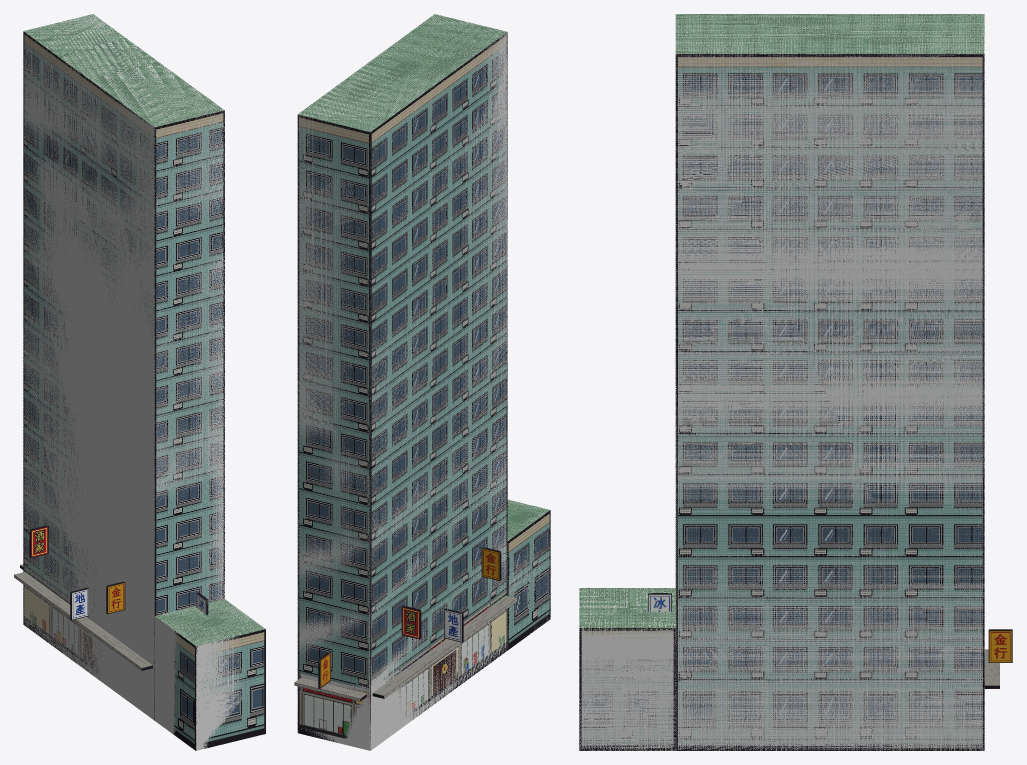
The picture shows the model from 3 angles, left to right: view 1: azimuth 30°, elevation 25°; view 2: azimuth 150°, elevation 25°; view 3: azimuth 270°, elevation 25°; orthographic projection. The views are drawn at different scales.
Parts seen in each view (by area): view 1: COL_19D-W09_0, 19D-W09, COL_19D-W09_1; view 2: 19D-W09, COL_19D-W09_0, COL_19D-W09_1; view 3: 19D-W09, COL_19D-W09_0, COL_19D-W09_1.
Boxes of the visible parts, x1,y1,x2,y2 form: COL_19D-W09_0: [23, 14, 224, 720]; 19D-W09: [14, 14, 265, 750]; COL_19D-W09_1: [154, 599, 263, 750]; 19D-W09: [294, 14, 550, 742]; COL_19D-W09_0: [297, 14, 507, 750]; COL_19D-W09_1: [507, 500, 550, 636]; 19D-W09: [579, 14, 1012, 750]; COL_19D-W09_0: [675, 14, 984, 750]; COL_19D-W09_1: [579, 588, 675, 750].
Bounding box in the file's own units: 8.15 × 51 × 28.75.
1 material, 1 textured.
